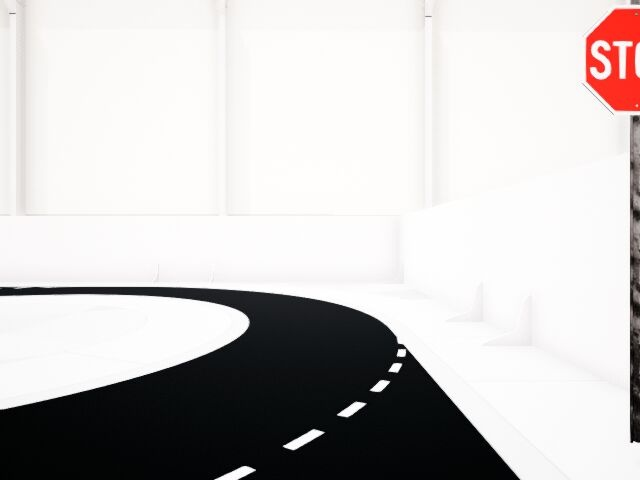stopsign: (587, 6, 640, 115)
